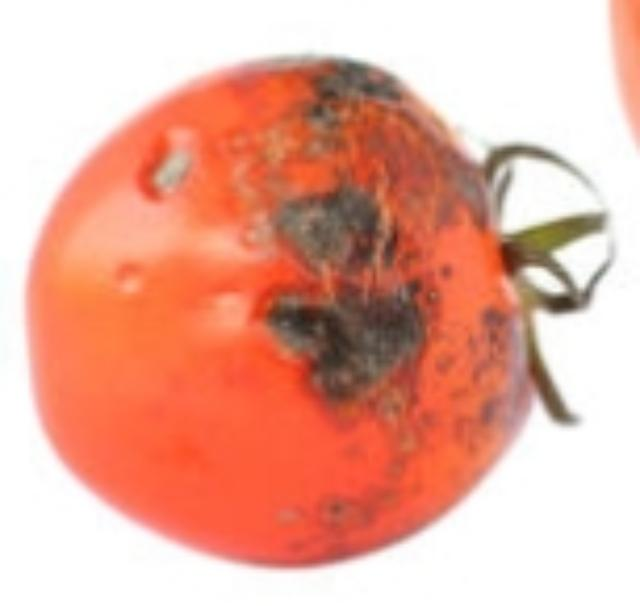defect: (18, 44, 605, 573)
